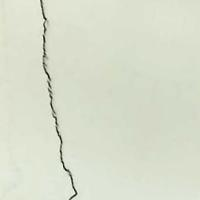crack: (30, 0, 89, 199)
